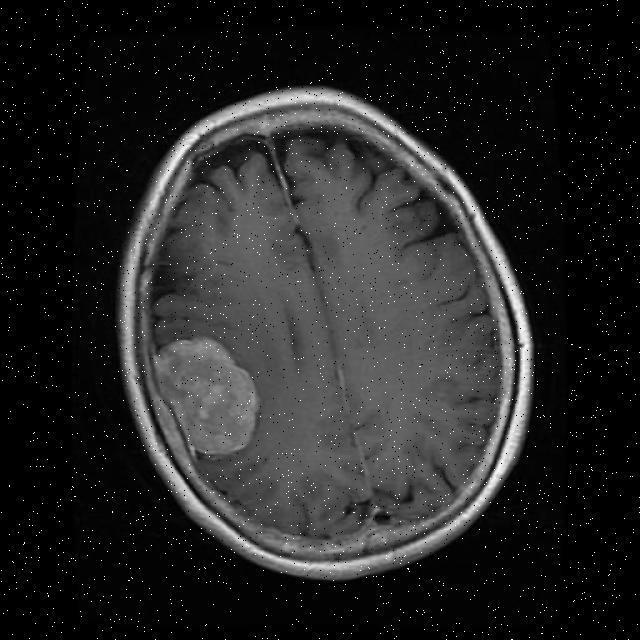Meningioma: (155, 338, 257, 454)
